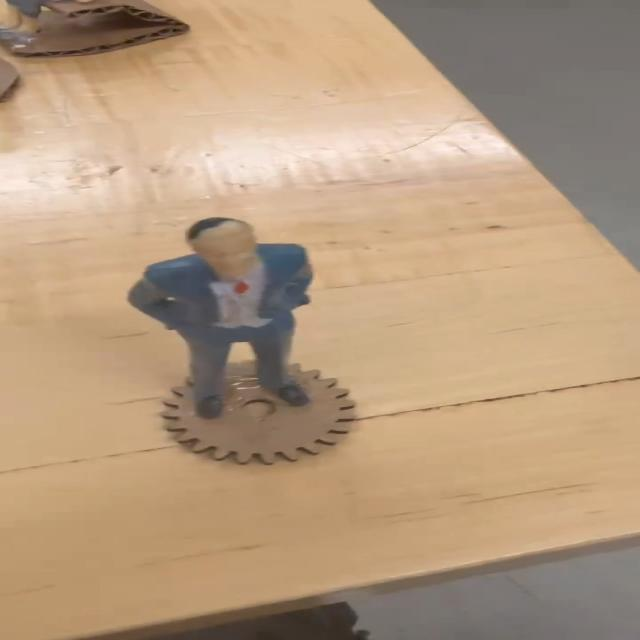Authorized: (122, 219, 325, 430)
